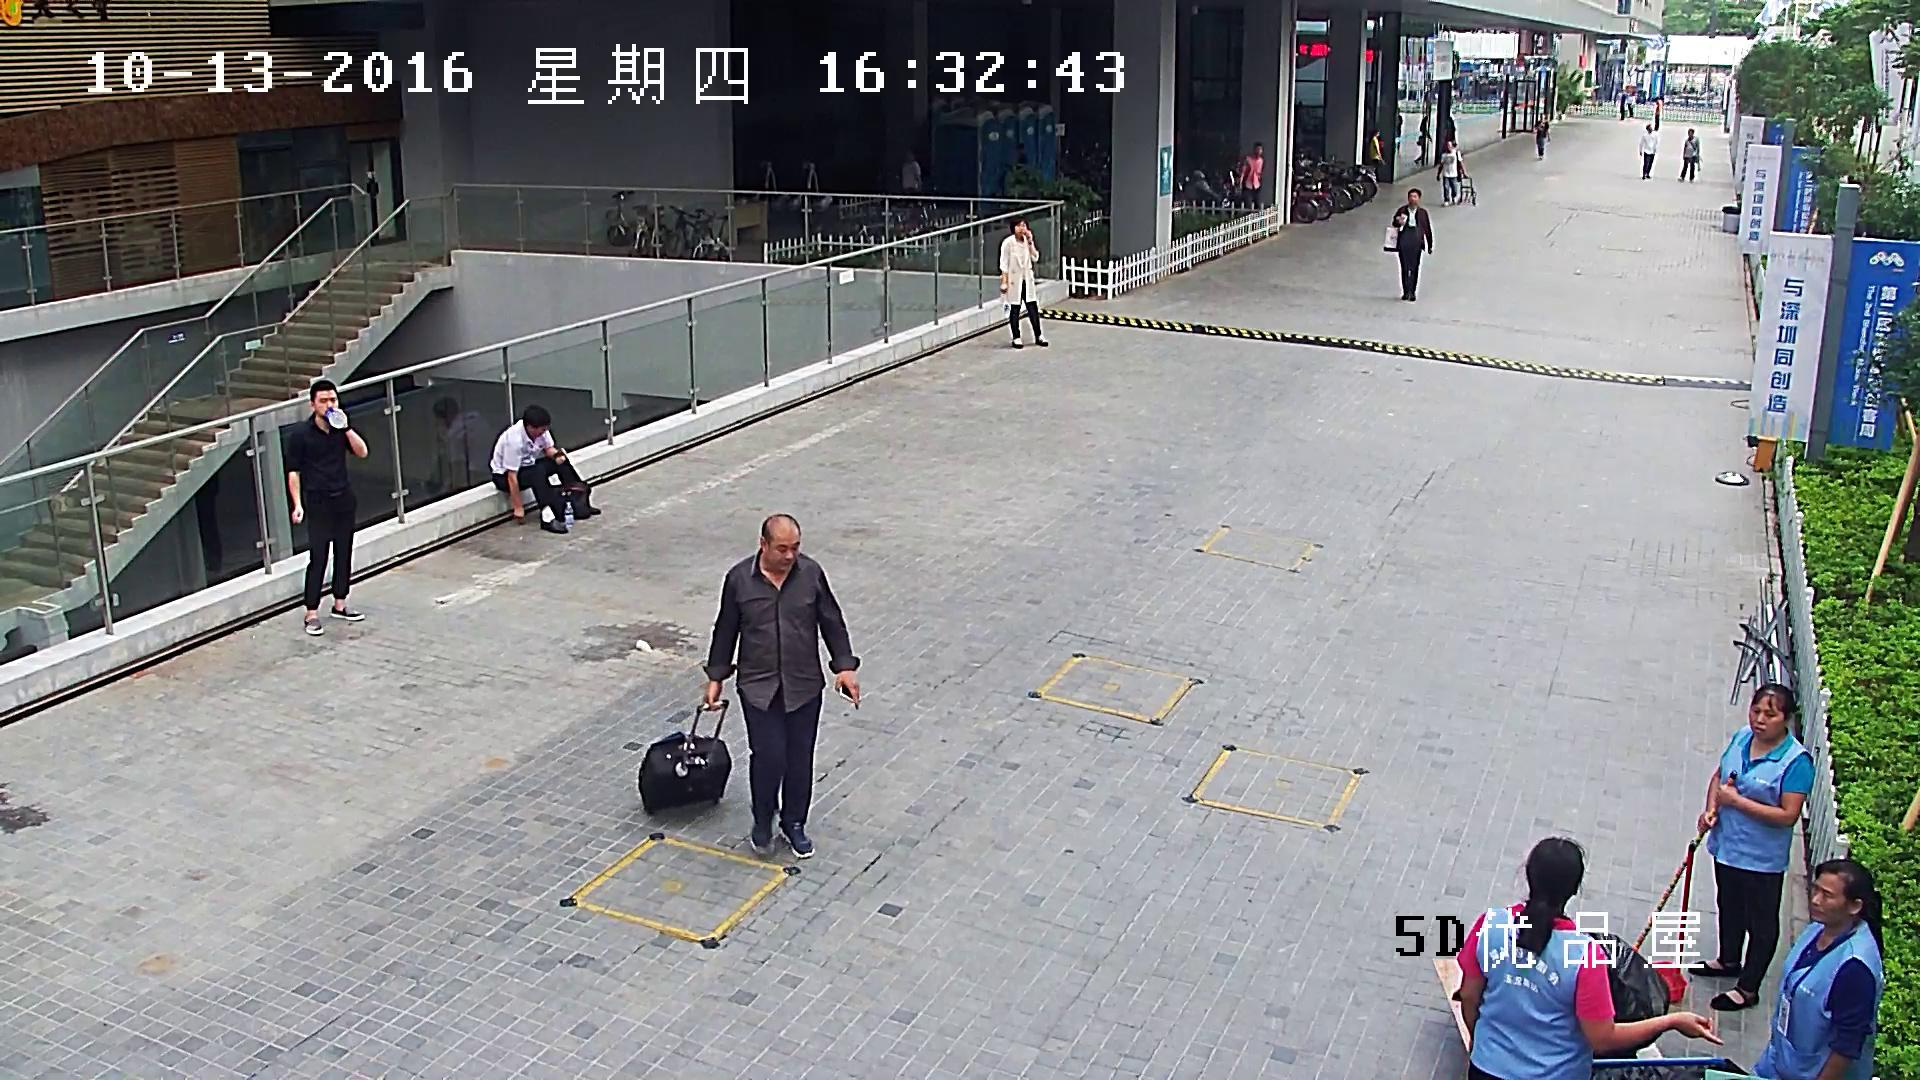person: (638, 513, 860, 858), (1457, 835, 1724, 1080), (1631, 683, 1815, 1011), (702, 513, 860, 858), (1687, 683, 1816, 1011), (1753, 859, 1883, 1080), (286, 380, 369, 635), (490, 403, 599, 533), (421, 396, 494, 493), (999, 215, 1048, 348), (1383, 187, 1432, 301), (1436, 137, 1475, 207), (1436, 137, 1464, 207), (1239, 142, 1264, 214), (1677, 128, 1700, 183), (901, 148, 921, 205), (1639, 124, 1657, 179), (1413, 115, 1432, 166), (1535, 113, 1550, 160), (1370, 128, 1381, 182), (1440, 116, 1455, 153), (1654, 97, 1660, 130), (1626, 91, 1634, 116), (1619, 93, 1626, 119)
